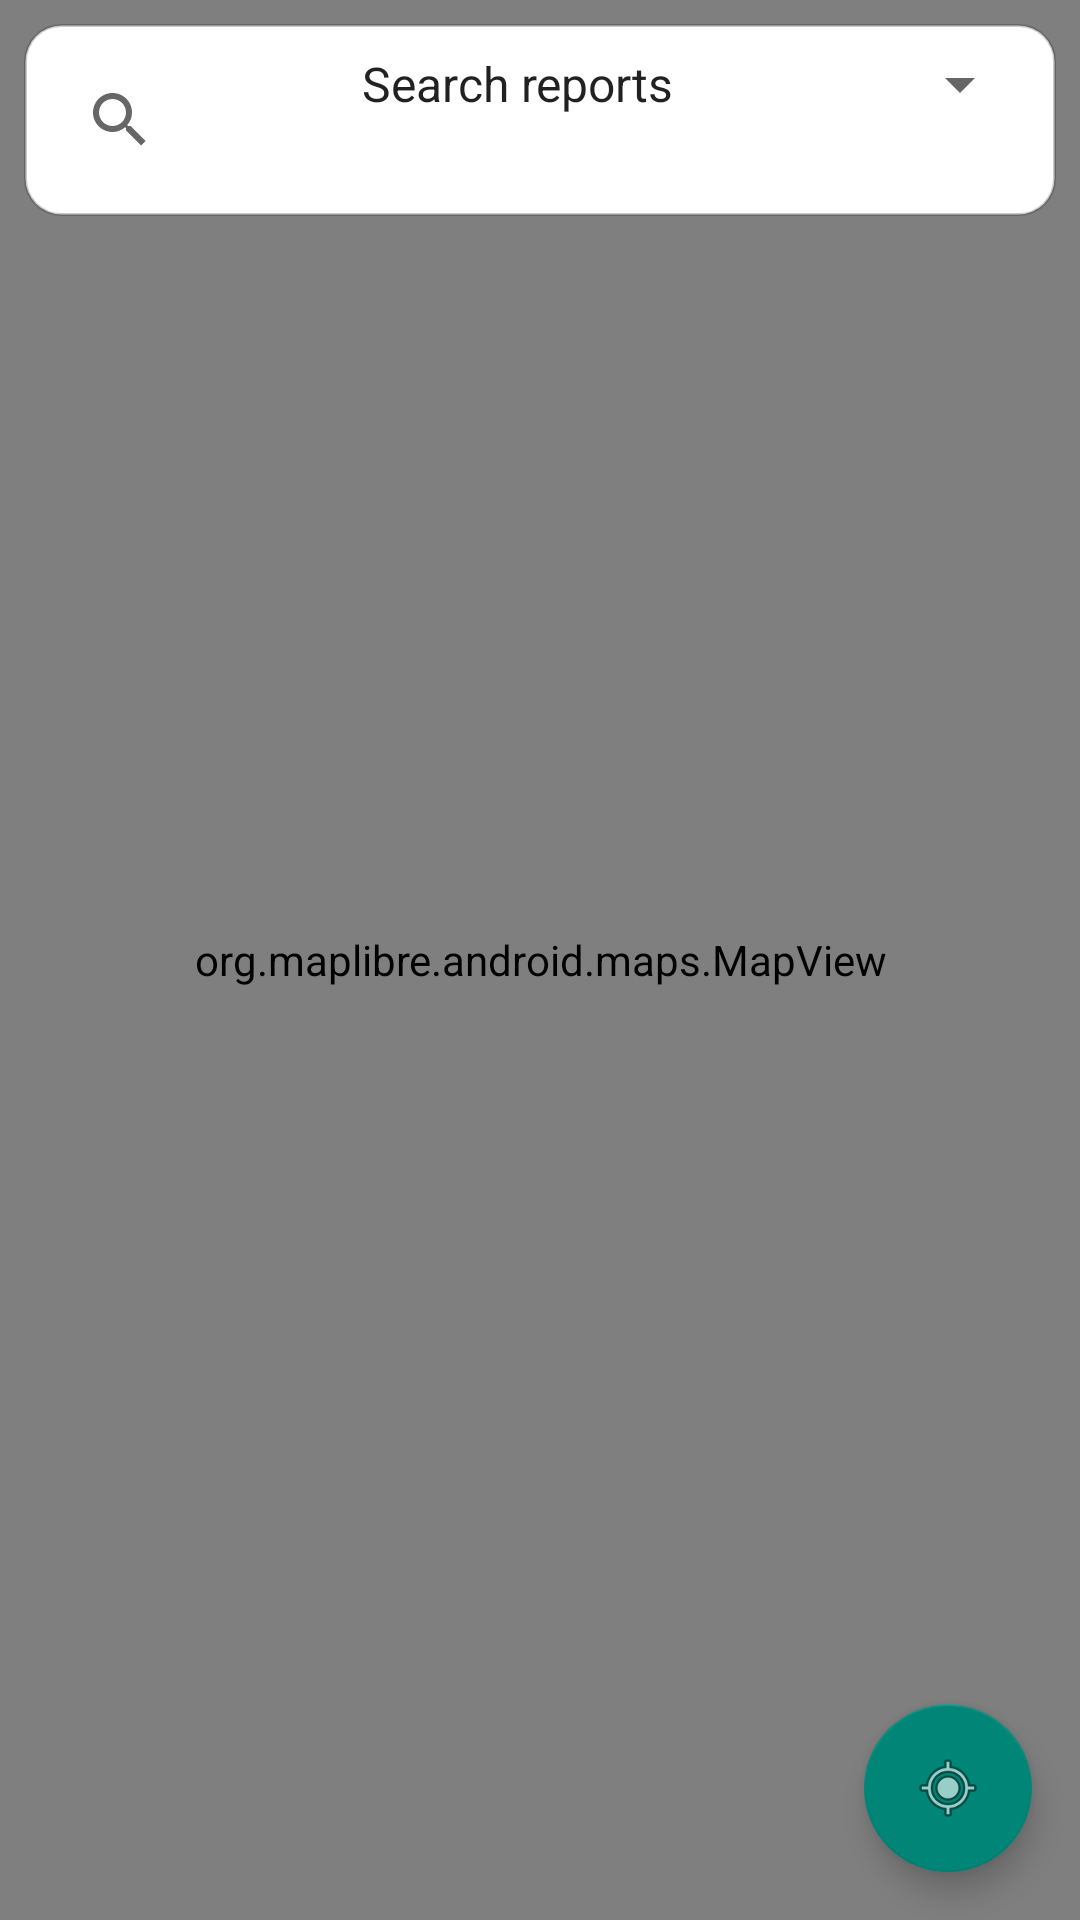

Locate icon controls on the screen. Image size 1080px×1920px, boxes as (x1, y1, x2, y2).
mylocation: (864, 1704, 1032, 1872)
